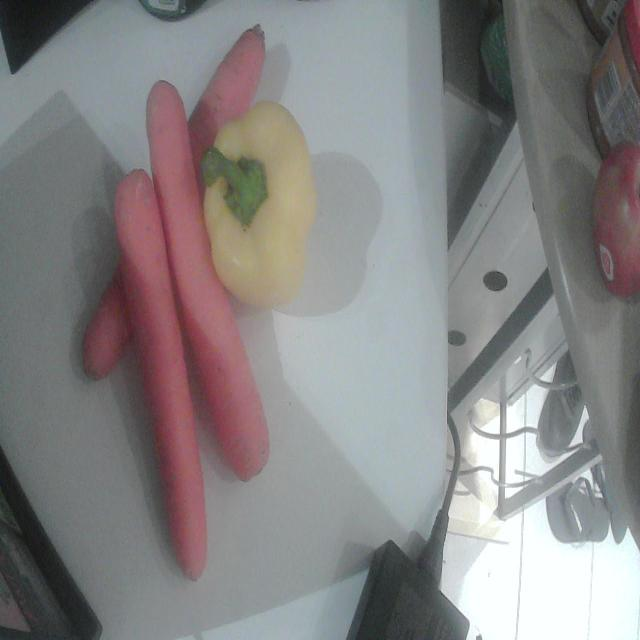Bell Pepper: (202, 102, 316, 308)
Carrot: (147, 81, 269, 481), (114, 170, 207, 579)
